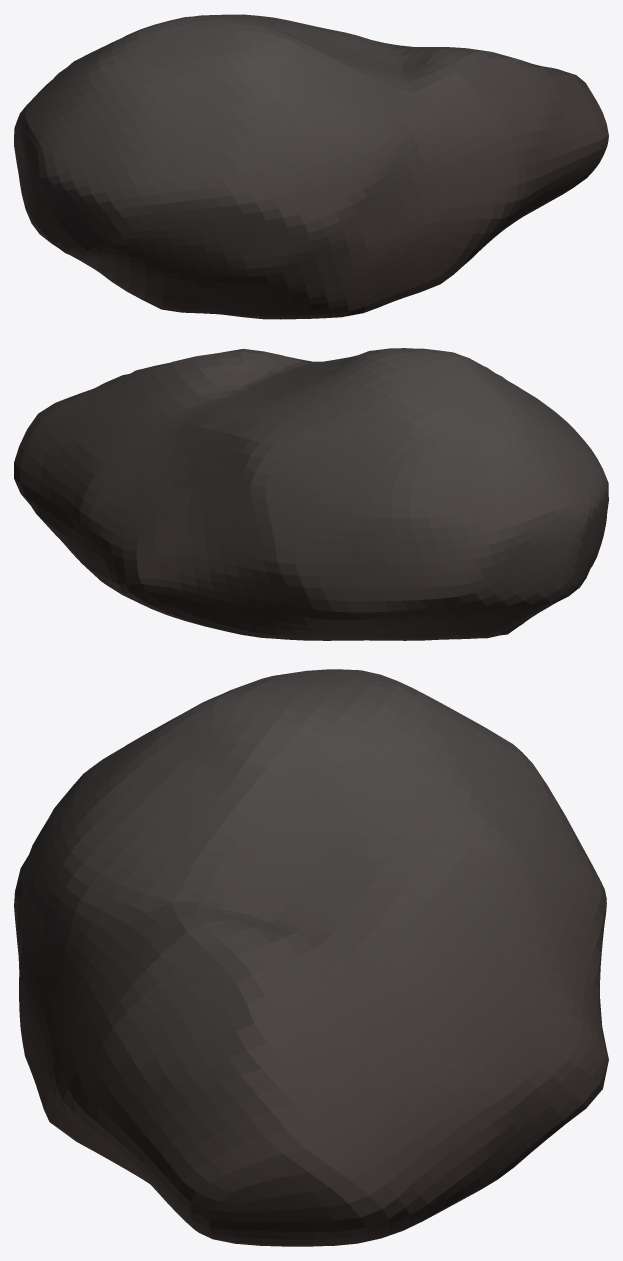
File: Rock13_Textured.fbx
3 renders of one model, top to bottom at view 1: azimuth 30°, elevation 25°; view 2: azimuth 150°, elevation 25°; view 3: azimuth 270°, elevation 25°, orthographic. The views are drawn at different scales.
Parts seen in each view (by area): view 1: GameJam_Rock2_ModelZbrush:Group52280; view 2: GameJam_Rock2_ModelZbrush:Group52280; view 3: GameJam_Rock2_ModelZbrush:Group52280.
Boxes of the visible parts, box(x1,y1,x2,y2) form: GameJam_Rock2_ModelZbrush:Group52280: box(14, 14, 608, 319); GameJam_Rock2_ModelZbrush:Group52280: box(14, 348, 608, 640); GameJam_Rock2_ModelZbrush:Group52280: box(14, 669, 608, 1246).
Size of the model in its own units: 1.82 by 0.792 by 1.19.
Materials: 1 (1 with a texture image).
